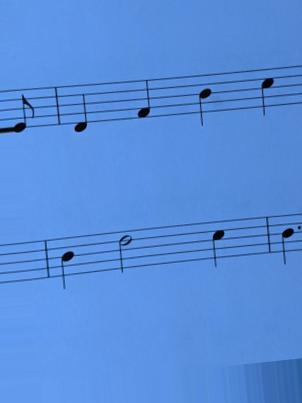B: (194, 72, 219, 132), (54, 236, 80, 293), (277, 207, 297, 272)
D: (67, 80, 93, 139)
F: (131, 75, 156, 129)
HC: (252, 65, 280, 121), (208, 218, 232, 275)
